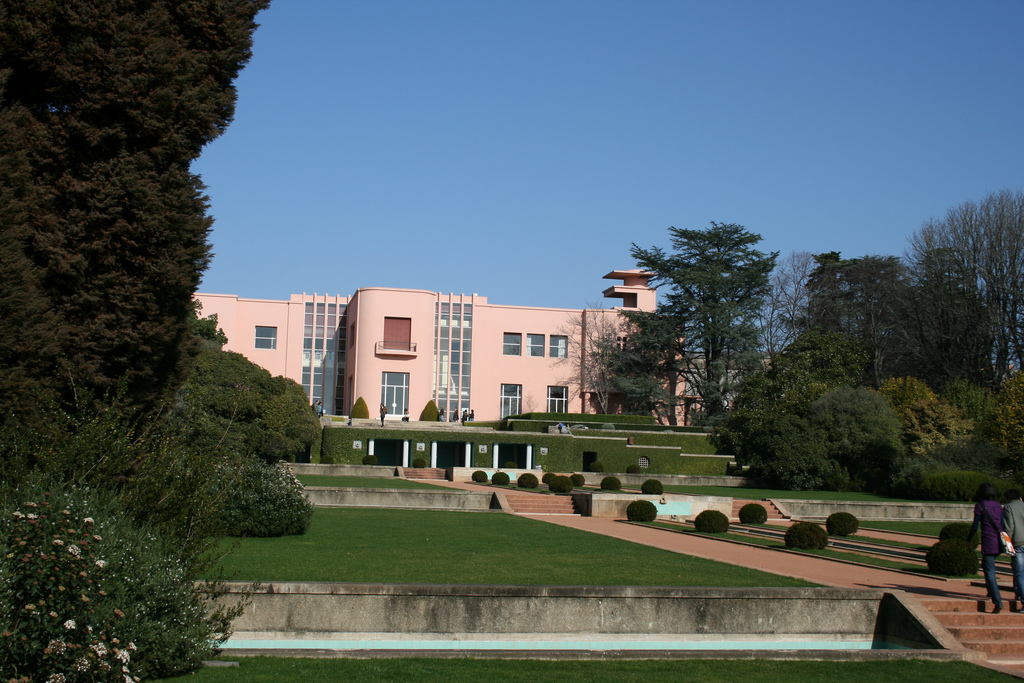serralves: (176, 261, 702, 432)
